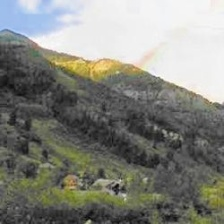neutral: (2, 5, 222, 222)
